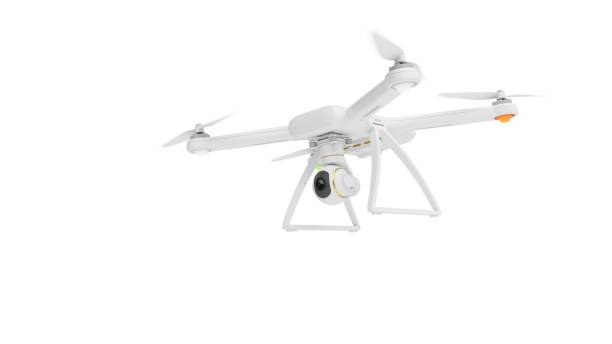Drone: (157, 29, 538, 235)
